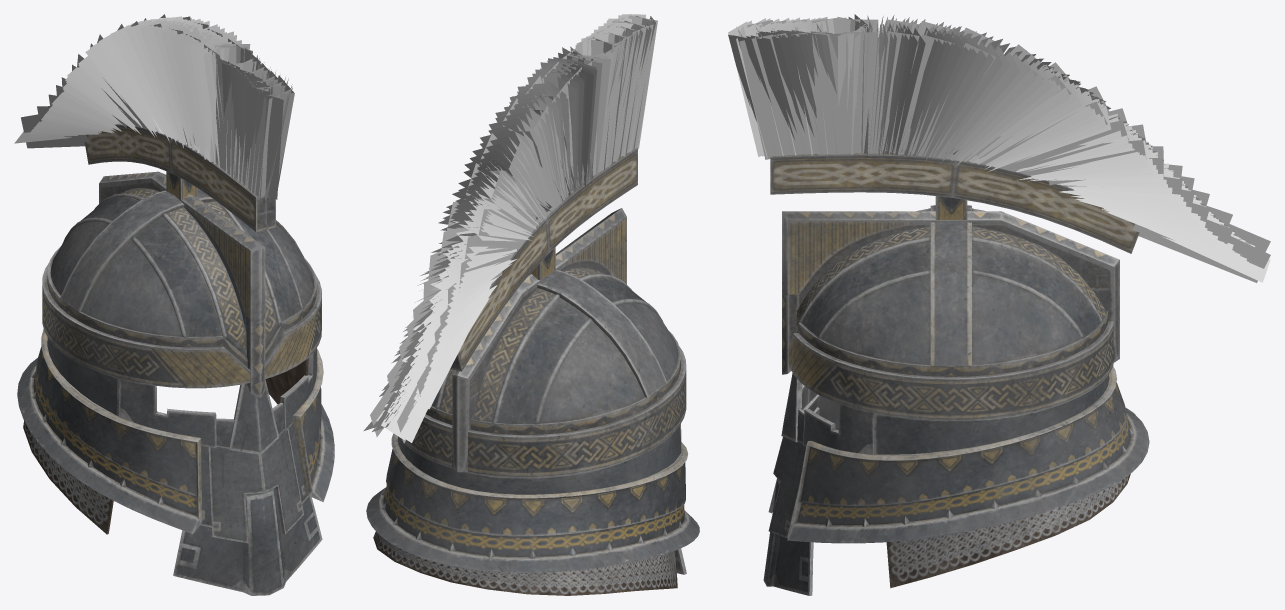
The model's file is sk_dwarf_erebor_helmet_plate_legionary_b2.dae.
The picture shows the model from 3 angles, left to right: view 1: azimuth 30°, elevation 25°; view 2: azimuth 150°, elevation 25°; view 3: azimuth 270°, elevation 25°; orthographic projection. The views are drawn at different scales.
Parts seen in each view (by area): view 1: sk_dwarf_erebor_helmet_plate_legionary_b2; view 2: sk_dwarf_erebor_helmet_plate_legionary_b2; view 3: sk_dwarf_erebor_helmet_plate_legionary_b2.
Part boxes in pixels (box(x1,y1,x2,y2)): sk_dwarf_erebor_helmet_plate_legionary_b2: box(14, 14, 334, 595); sk_dwarf_erebor_helmet_plate_legionary_b2: box(363, 14, 699, 595); sk_dwarf_erebor_helmet_plate_legionary_b2: box(728, 14, 1270, 595).
Size of the model in its own units: 0.2865 by 0.4755 by 0.537.
2 materials, 2 textured.
